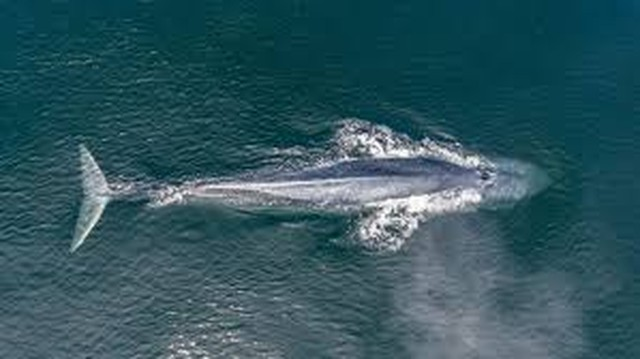whale: (61, 117, 559, 258)
